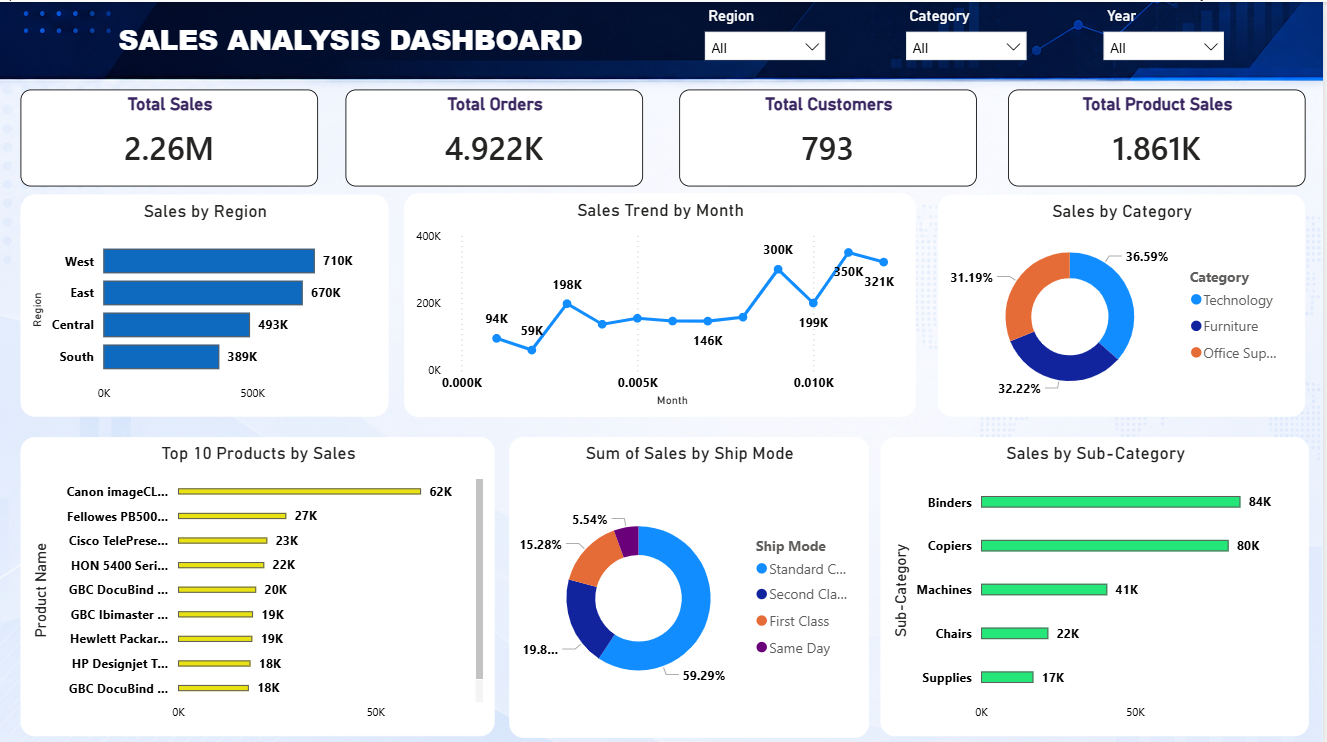

What the dashboard file says about the page in this screenshot:
{"tool":"powerbi","page":{"name":"Dashboard","canvas":[1280,720],"ordinal":0},"visuals":[{"type":"textbox","box":[0,0,573.1,76],"z":0},{"type":"slicer","fields":{"Values":["Cleaned_Sales_data.Region"]},"box":[657.5,0,150.8,66.4],"z":1},{"type":"slicer","fields":{"Values":["Cleaned_Sales_data.Category"]},"box":[851.7,0,150.8,66.4],"z":2},{"type":"slicer","fields":{"Values":["Cleaned_Sales_data.Year"]},"box":[1042.4,0,150.8,66.4],"z":3},{"type":"cardVisual","title":"Total Sales","fields":{"Data":["Sum(Cleaned_Sales_data.Sales)"]},"box":[21.3,83.9,287.3,93.9],"z":4},{"type":"cardVisual","title":"Total Product Sales","fields":{"Data":["Count(Cleaned_Sales_data.Product ID)"]},"box":[974.2,83.9,287.3,93.9],"z":5},{"type":"cardVisual","title":"Total Customers","fields":{"Data":["Count(Cleaned_Sales_data.Customer ID)"]},"box":[657.1,83.9,287.3,93.9],"z":6},{"type":"cardVisual","title":"Total Orders","fields":{"Data":["Count(Cleaned_Sales_data.Order ID)"]},"box":[335.6,83.9,287.3,93.9],"z":7},{"type":"clusteredBarChart","title":"Sales by Region","fields":{"Category":["Cleaned_Sales_data.Region"],"Y":["Sum(Cleaned_Sales_data.Sales)"]},"box":[21.3,186.3,355.6,214.8],"z":8},{"type":"lineChart","title":"Sales Trend by Month","fields":{"Category":["Cleaned_Sales_data.Month"],"Y":["Sum(Cleaned_Sales_data.Sales)"]},"box":[392.5,184.9,493.5,216.2],"z":9},{"type":"donutChart","title":"Sales by Category","fields":{"Category":["Cleaned_Sales_data.Category"],"Y":["Sum(Cleaned_Sales_data.Sales)"]},"box":[907.4,186.3,354.1,214.8],"z":10},{"type":"clusteredBarChart","title":"Top 10 Products by Sales","fields":{"Category":["Cleaned_Sales_data.Product Name"],"Y":["Sum(Cleaned_Sales_data.Sales)"]},"box":[21.3,419.6,458,288.7],"z":11},{"type":"donutChart","fields":{"Category":["Cleaned_Sales_data.Ship Mode"],"Y":["Sum(Cleaned_Sales_data.Sales)"]},"box":[493.5,419.6,347,290.1],"z":12},{"type":"clusteredBarChart","title":"Sales by Sub-Category","fields":{"Y":["Sum(Cleaned_Sales_data.Sales)"],"Category":["Cleaned_Sales_data.Sub-Category"]},"box":[851.9,419.6,413.9,288.7],"z":13}]}

Visuals, with their boxes in screenshot pixels (x1, y1, x2, y2), scaled from the page's 1280x720 canvas onto the 1327x742 screenshot:
textbox: Rect(0, 0, 594, 78)
slicer - Cleaned_Sales_data.Region: Rect(682, 0, 838, 68)
slicer - Cleaned_Sales_data.Category: Rect(883, 0, 1039, 68)
slicer - Cleaned_Sales_data.Year: Rect(1081, 0, 1237, 68)
"Total Sales" cardVisual: Rect(22, 86, 320, 183)
"Total Product Sales" cardVisual: Rect(1010, 86, 1308, 183)
"Total Customers" cardVisual: Rect(681, 86, 979, 183)
"Total Orders" cardVisual: Rect(348, 86, 646, 183)
"Sales by Region" clusteredBarChart: Rect(22, 192, 391, 413)
"Sales Trend by Month" lineChart: Rect(407, 191, 919, 413)
"Sales by Category" donutChart: Rect(941, 192, 1308, 413)
"Top 10 Products by Sales" clusteredBarChart: Rect(22, 432, 497, 730)
donutChart - Cleaned_Sales_data.Ship Mode x Sum(Cleaned_Sales_data.Sales): Rect(512, 432, 871, 731)
"Sales by Sub-Category" clusteredBarChart: Rect(883, 432, 1312, 730)
